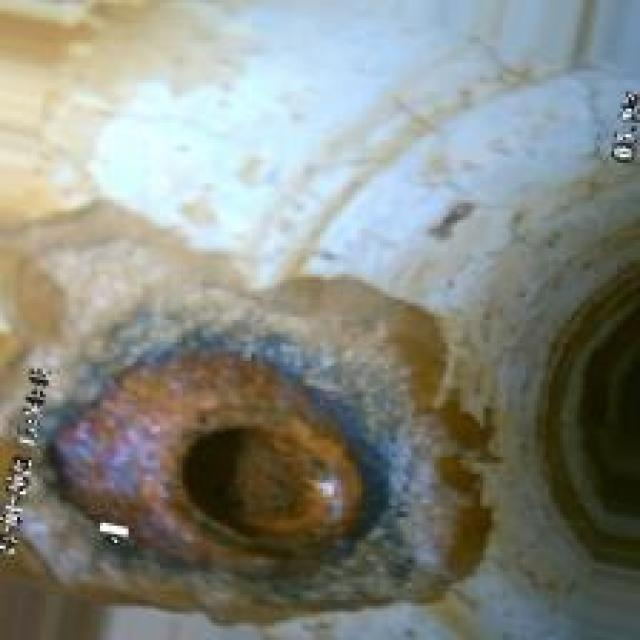ferrule: (120, 380, 371, 566)
